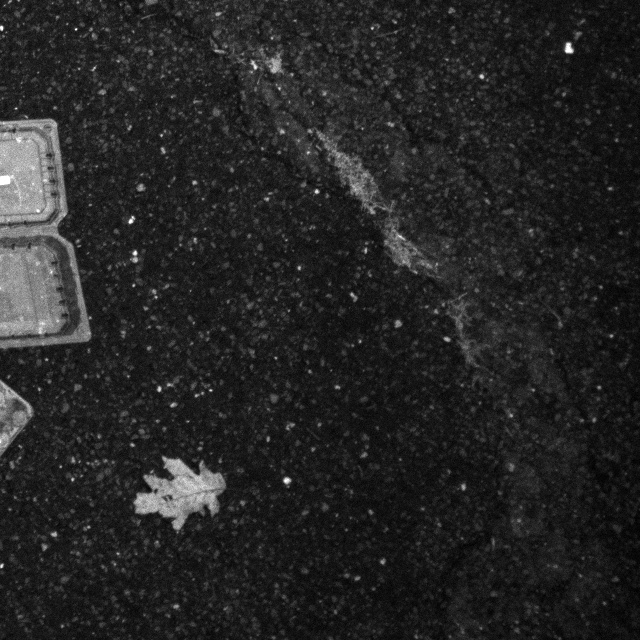container: (0, 105, 98, 358)
